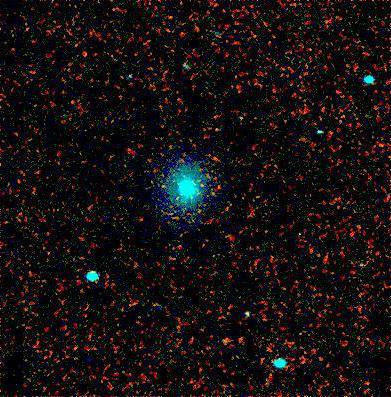star: (212, 325, 242, 355)
